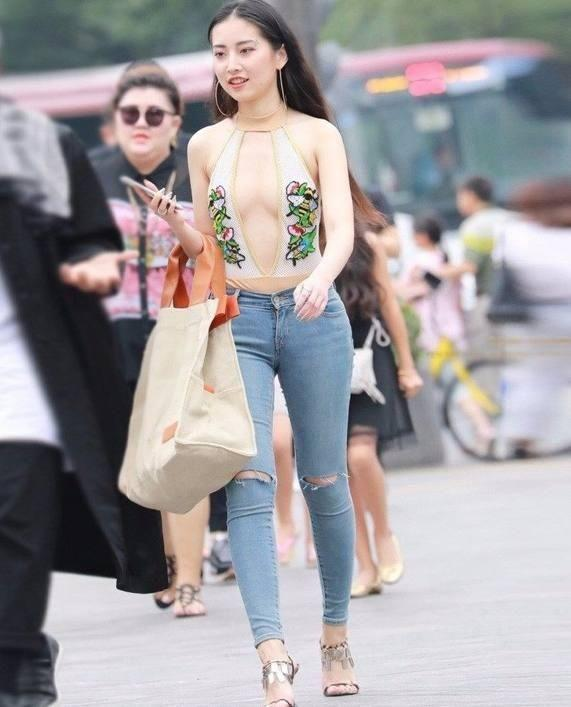people: (189, 1, 361, 707), (2, 92, 121, 707), (83, 65, 214, 617), (292, 141, 423, 595)
